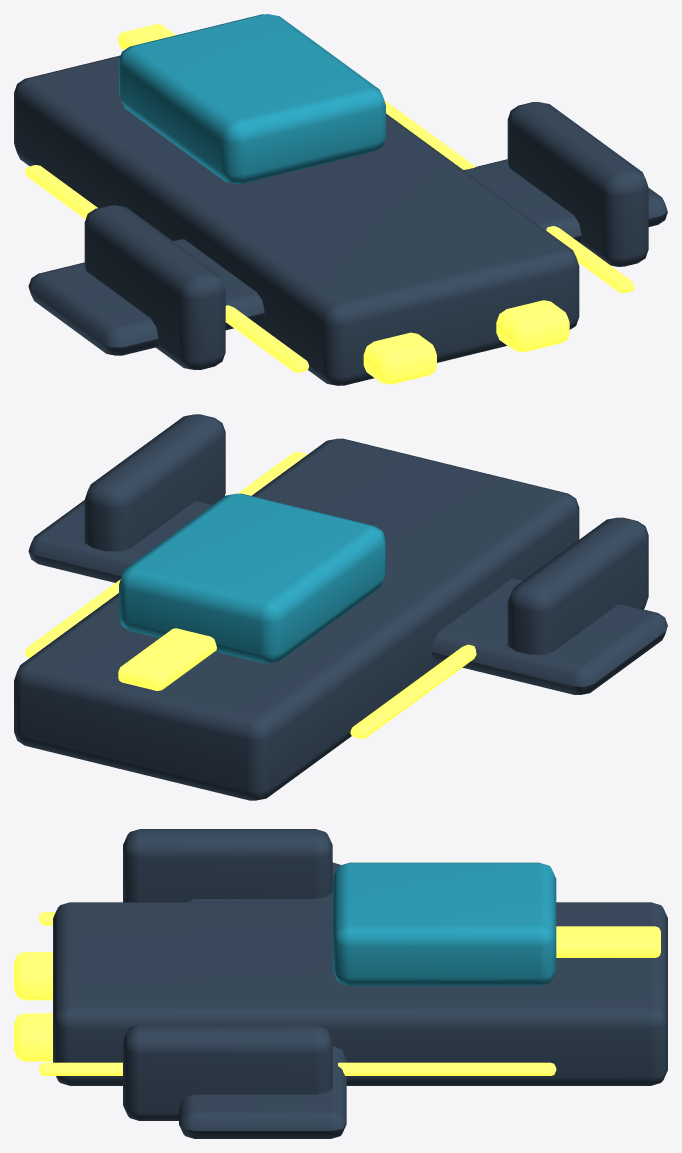
Rendered from ship_2.glb.
3 renders of one model, top to bottom at view 1: azimuth 30°, elevation 25°; view 2: azimuth 150°, elevation 25°; view 3: azimuth 270°, elevation 25°, orthographic. The views are drawn at different scales.
Visible parts, largest first — view 1: Comet fuselage, Comet canopy, Comet fin, Comet fin.001, Comet wing, Comet rail, Comet jet, Comet jet.001, Comet rail.001, Comet crest; view 2: Comet fuselage, Comet canopy, Comet wing, Comet fin, Comet fin.001, Comet crest, Comet rail, Comet rail.001; view 3: Comet fuselage, Comet canopy, Comet fin.001, Comet fin, Comet wing, Comet rail.001, Comet crest, Comet jet, Comet jet.001.
Boxes of the visible parts, x1,y1,x2,y2 form: Comet fuselage: [14, 55, 579, 385]; Comet canopy: [119, 14, 385, 183]; Comet fin: [84, 205, 225, 369]; Comet fin.001: [507, 102, 648, 266]; Comet wing: [28, 159, 667, 355]; Comet rail: [25, 165, 309, 372]; Comet jet: [363, 332, 436, 384]; Comet jet.001: [496, 300, 569, 351]; Comet rail.001: [384, 100, 634, 293]; Comet crest: [118, 24, 175, 49]; Comet fuselage: [14, 438, 579, 800]; Comet canopy: [119, 493, 385, 663]; Comet wing: [28, 500, 667, 694]; Comet fin: [507, 517, 648, 654]; Comet fin.001: [84, 414, 225, 551]; Comet crest: [118, 628, 216, 690]; Comet rail: [350, 644, 476, 738]; Comet rail.001: [25, 452, 307, 657]; Comet fuselage: [53, 902, 667, 1085]; Comet canopy: [332, 862, 556, 985]; Comet fin.001: [123, 1025, 332, 1120]; Comet fin: [123, 829, 332, 902]; Comet wing: [179, 862, 346, 1138]; Comet rail.001: [39, 1062, 556, 1075]; Comet crest: [556, 926, 660, 957]; Comet jet: [14, 952, 52, 1000]; Comet jet.001: [14, 1013, 52, 1061].
Bounding box in the file's own units: 4.42 × 1.1 × 4.68.
